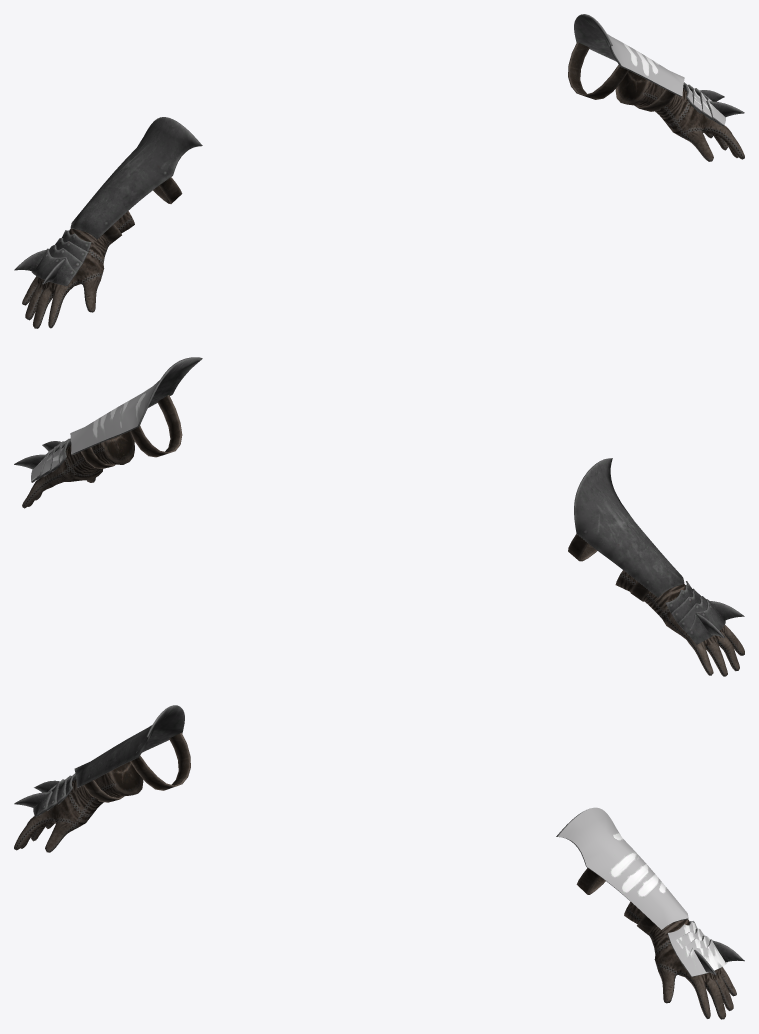
Rendered from sk_uruk_hai_bracer_elite_ar2.fbx.
3 views of the same model, one above another, from view 1: azimuth 30°, elevation 25°; view 2: azimuth 150°, elevation 25°; view 3: azimuth 330°, elevation 25° (orthographic).
Parts seen in each view (by area): view 1: sk_uruk_hai_bracer_elite_ar2.0, sk_uruk_hai_bracer_elite_ar2.1, sk_uruk_hai_bracer_elite_ar2.2; view 2: sk_uruk_hai_bracer_elite_ar2.0, sk_uruk_hai_bracer_elite_ar2.1, sk_uruk_hai_bracer_elite_ar2.2; view 3: sk_uruk_hai_bracer_elite_ar2.1, sk_uruk_hai_bracer_elite_ar2.2, sk_uruk_hai_bracer_elite_ar2.0.
Boxes of the visible parts, x1,y1,x2,y2 form: sk_uruk_hai_bracer_elite_ar2.0: (14,14,744,286); sk_uruk_hai_bracer_elite_ar2.1: (22,42,744,328); sk_uruk_hai_bracer_elite_ar2.2: (579,14,726,125); sk_uruk_hai_bracer_elite_ar2.0: (14,357,744,644); sk_uruk_hai_bracer_elite_ar2.1: (22,395,744,676); sk_uruk_hai_bracer_elite_ar2.2: (31,357,199,481); sk_uruk_hai_bracer_elite_ar2.1: (14,733,736,1019); sk_uruk_hai_bracer_elite_ar2.2: (557,807,727,976); sk_uruk_hai_bracer_elite_ar2.0: (14,705,744,976).
Size of the model in its own units: 1.6 by 0.1963 by 0.3715.
Materials: 3 (3 with a texture image).
